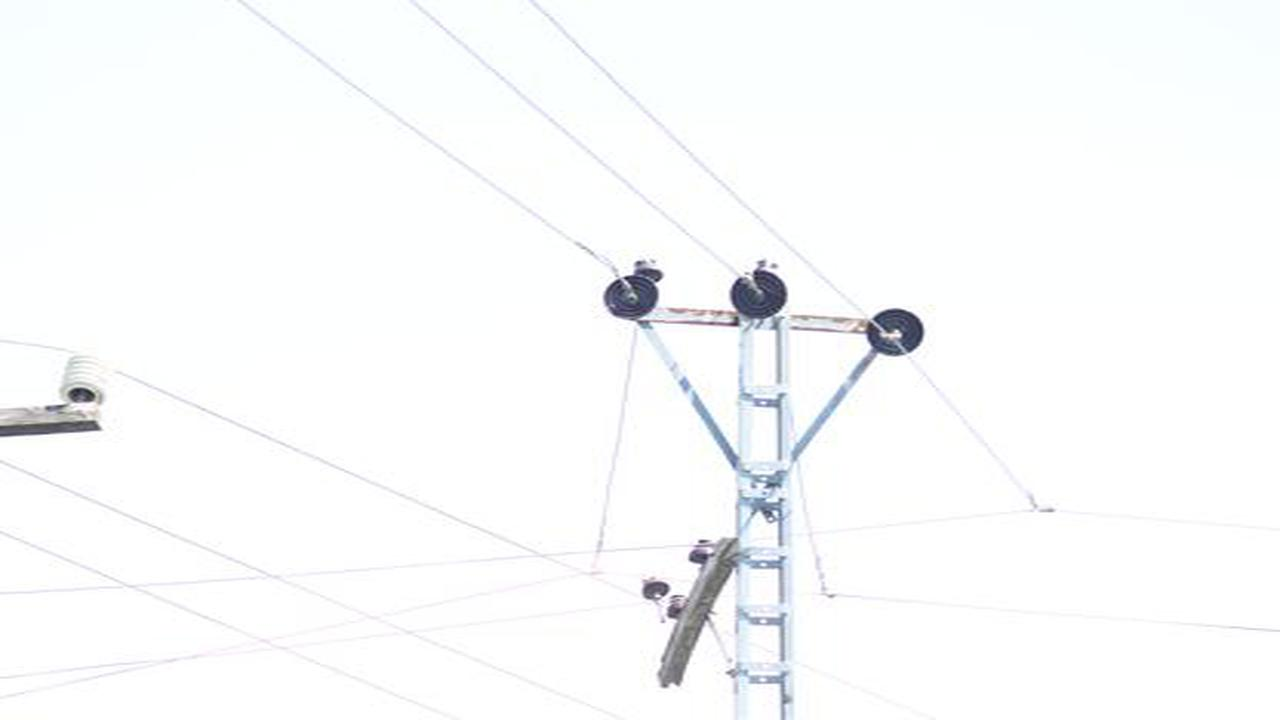insulator_disc: (727, 272, 791, 323), (867, 306, 927, 358), (600, 274, 661, 321)
insulator_pin: (640, 576, 674, 602), (632, 259, 669, 282), (687, 539, 716, 564)
